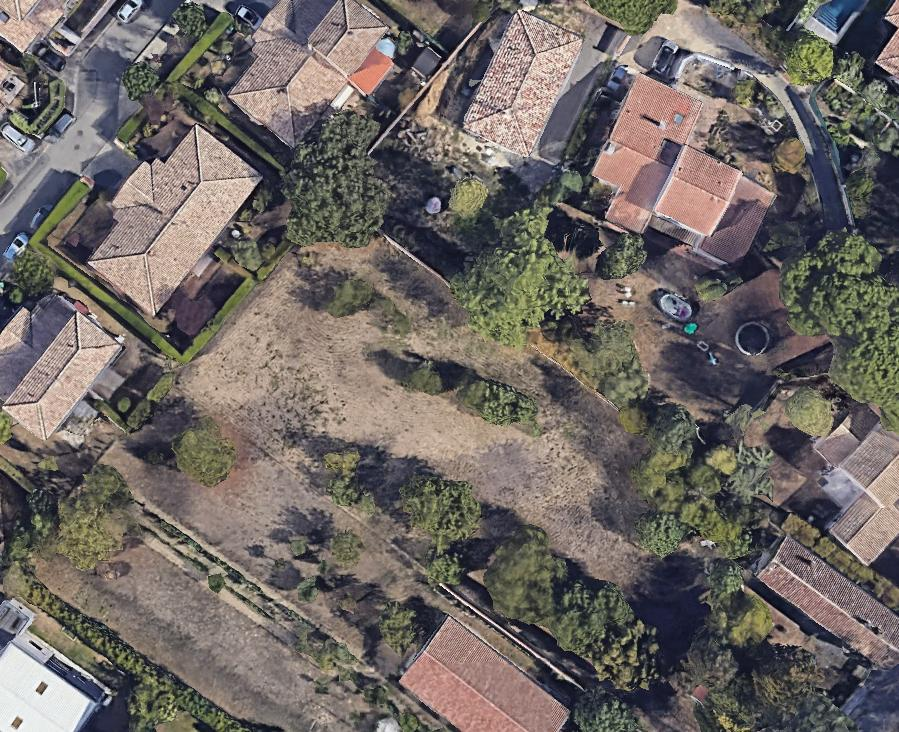maison: (566, 68, 798, 284), (68, 111, 266, 318), (211, 0, 410, 164), (0, 279, 127, 447), (396, 615, 574, 732), (754, 534, 899, 676), (459, 7, 585, 160), (816, 414, 898, 565), (0, 0, 63, 51), (876, 0, 898, 78)
